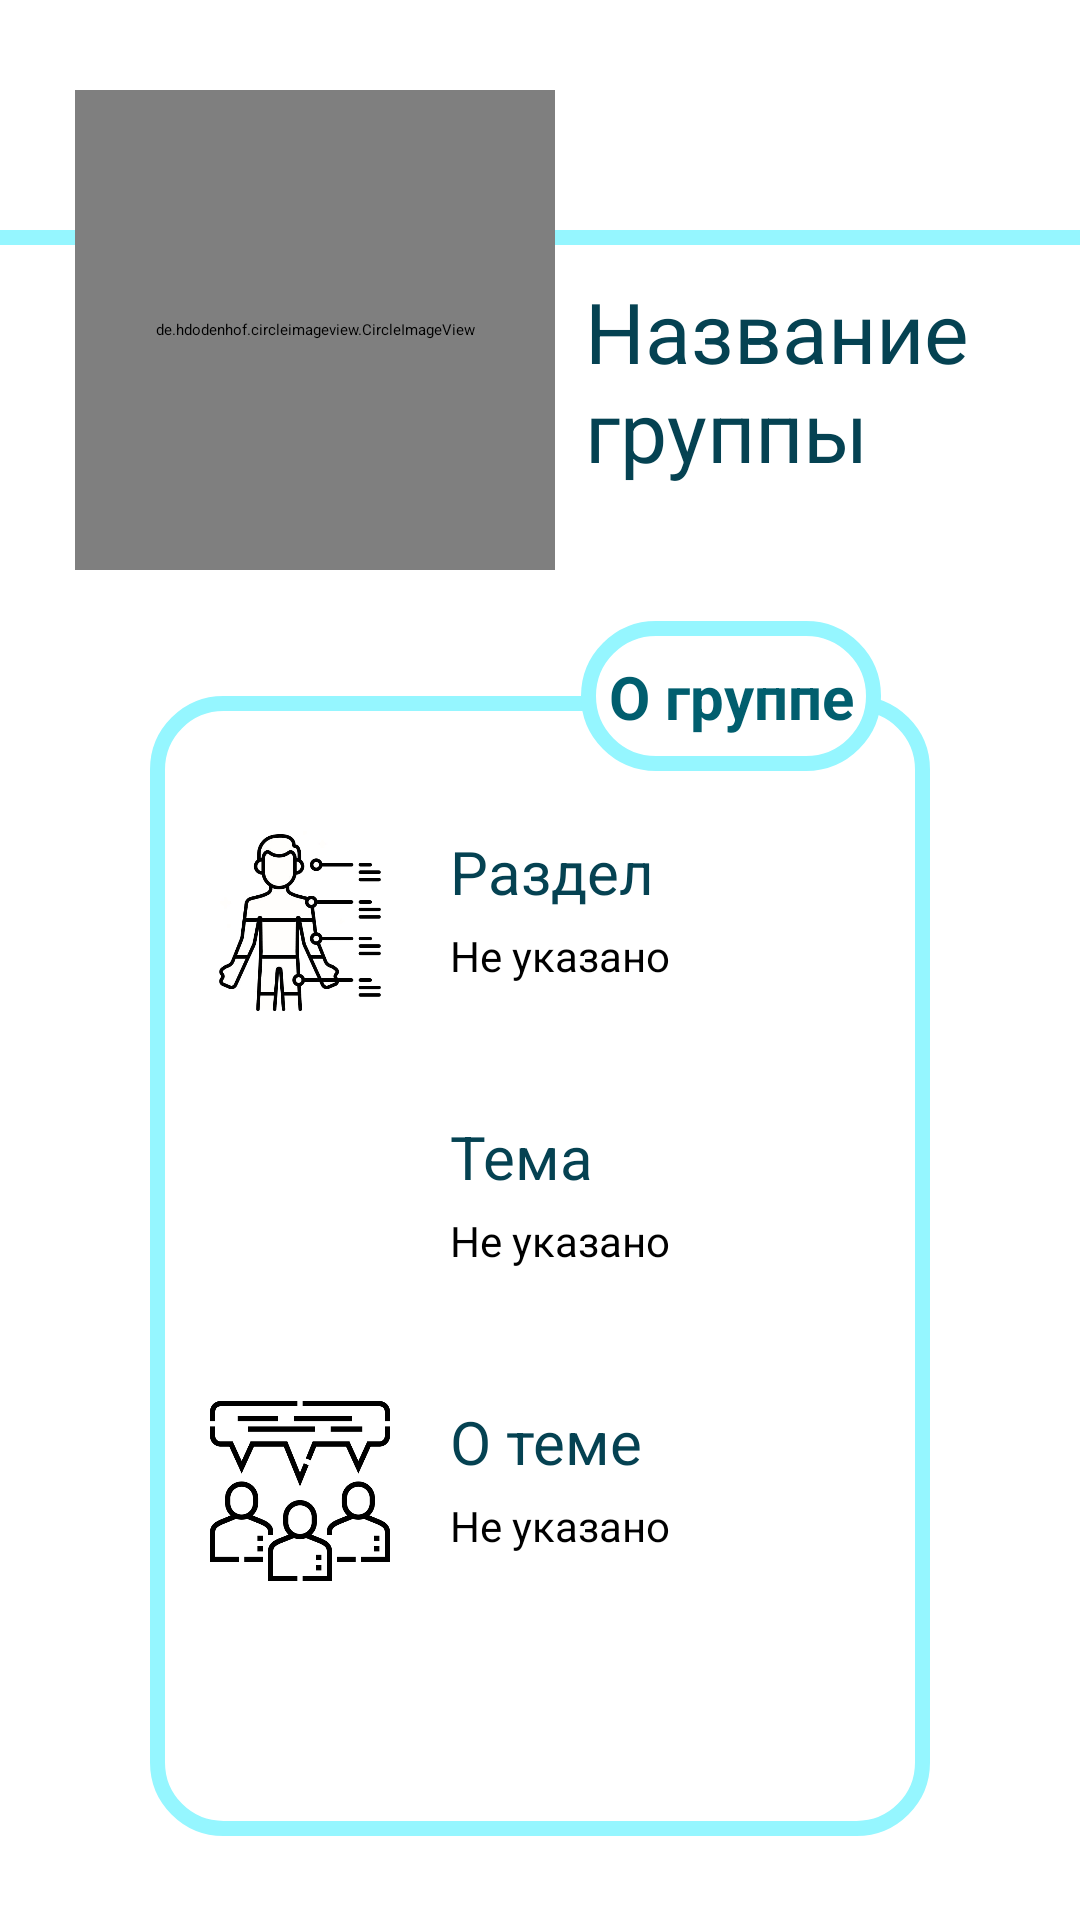

Point at icon controls on the screen. Image size 1080 x 1920, points as [x,y].
abouttopic: [300,1491]
